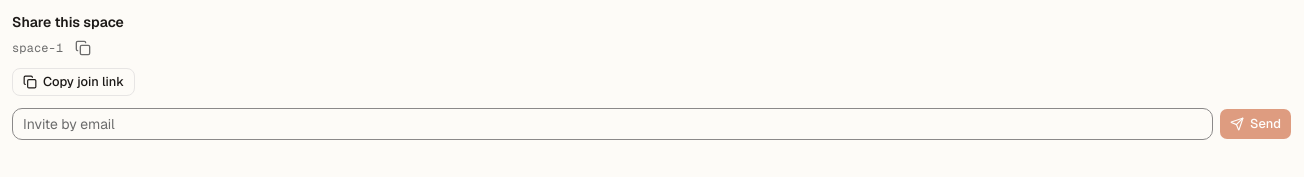
Scenario: SpaceSharingSection invite by email › shows the server error under the field and keeps the email
This screenshot has width=1304, height=177.
In the field labelled "Invite by email": (612, 124) [12,108,1213,140], type "a@b.co"
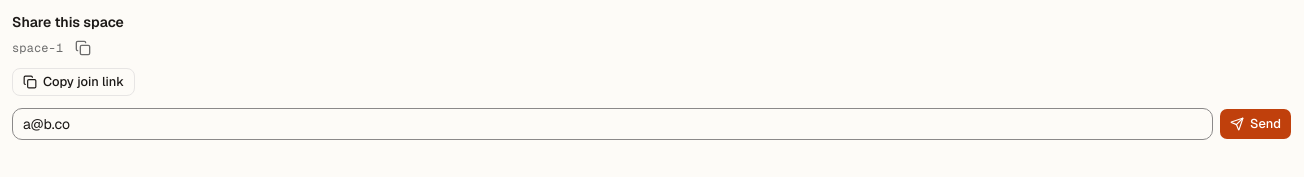
Submit the form named "Invite by email", box [12,108,1292,140]
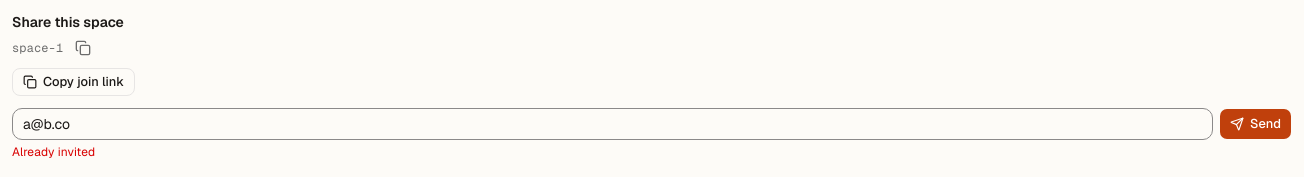
Expected: the text "Already invited" is shown, [12,144,95,160]
